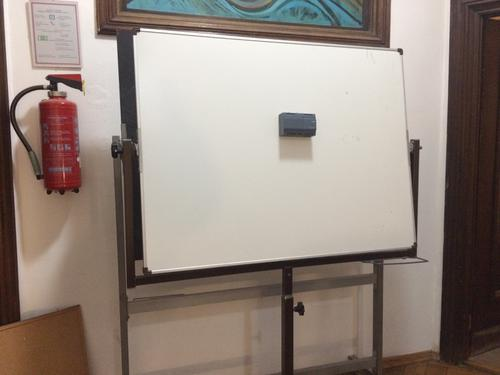iot2000: (277, 111, 317, 137)
